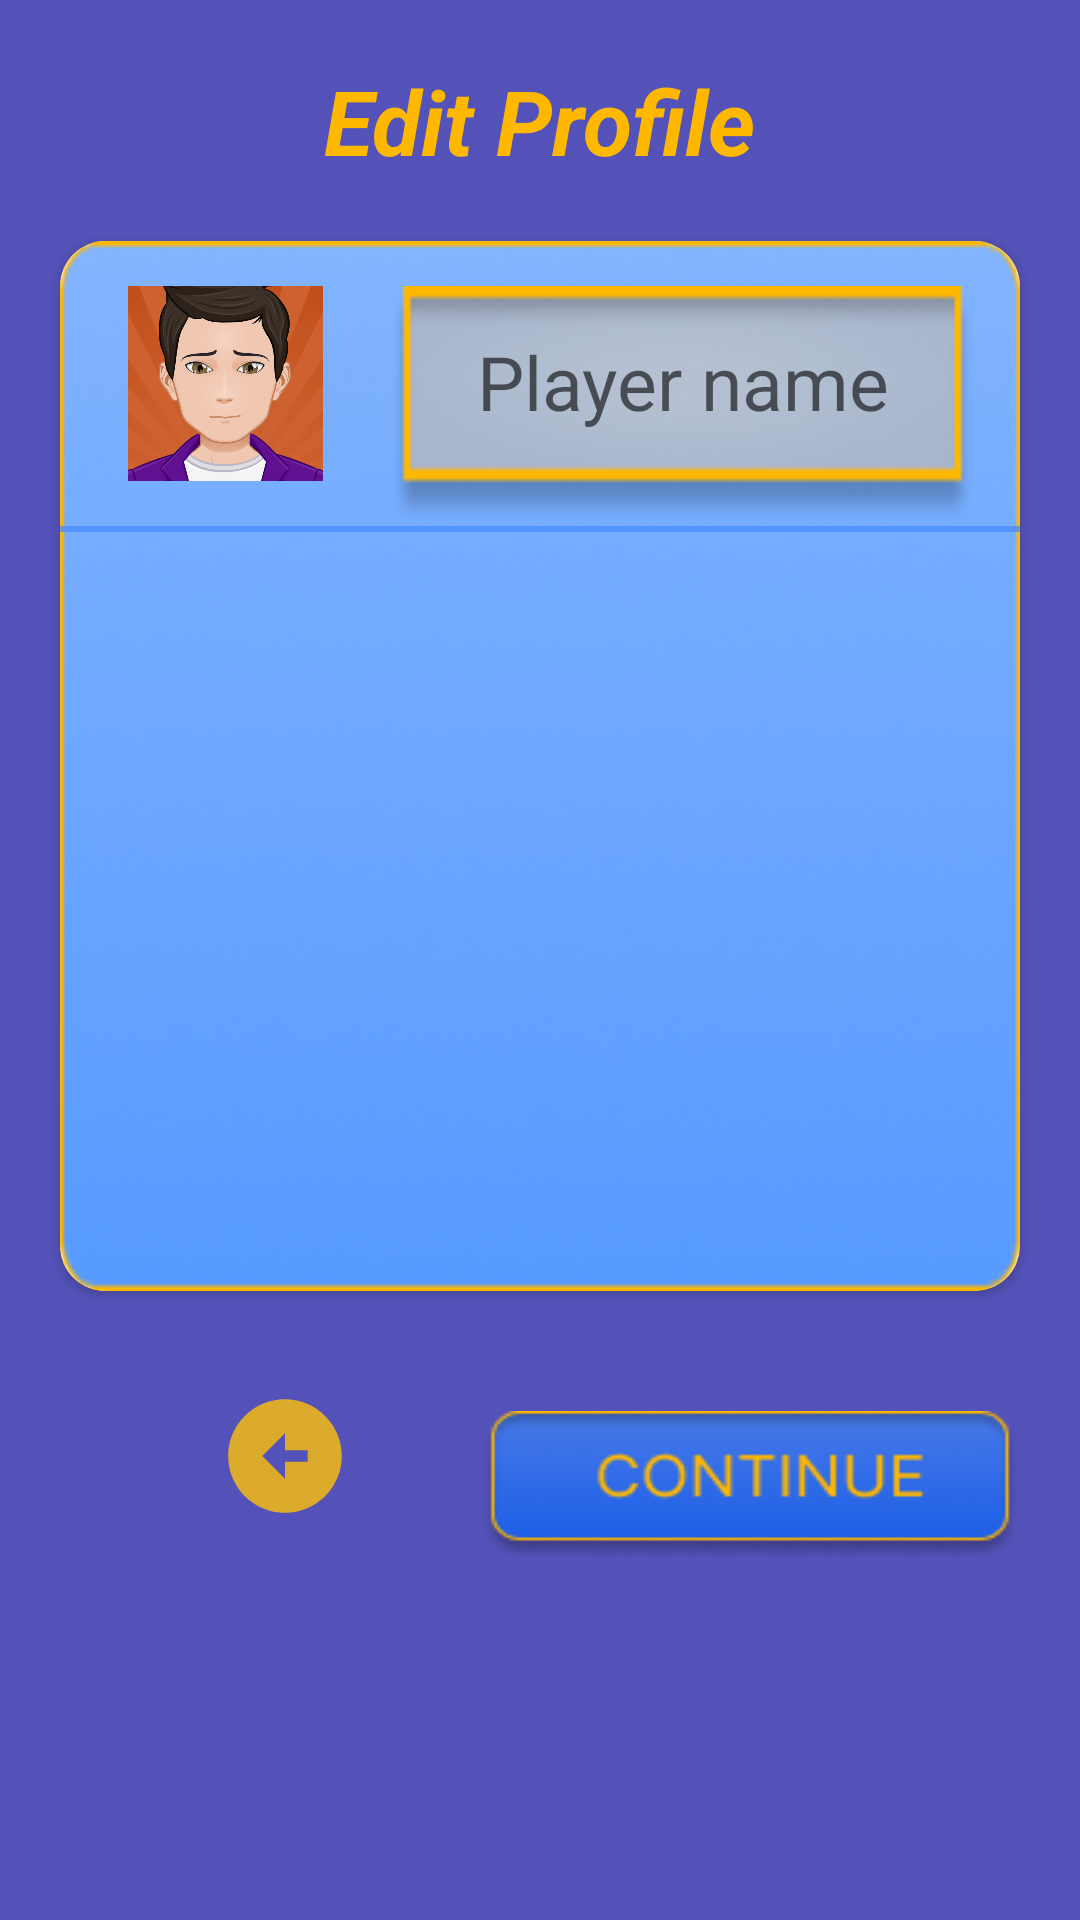

Where icons sit on this 1080px x 1920px app screen, as box=[x1, y1, x2, y2]:
back arrow: box=[228, 1399, 342, 1513]
